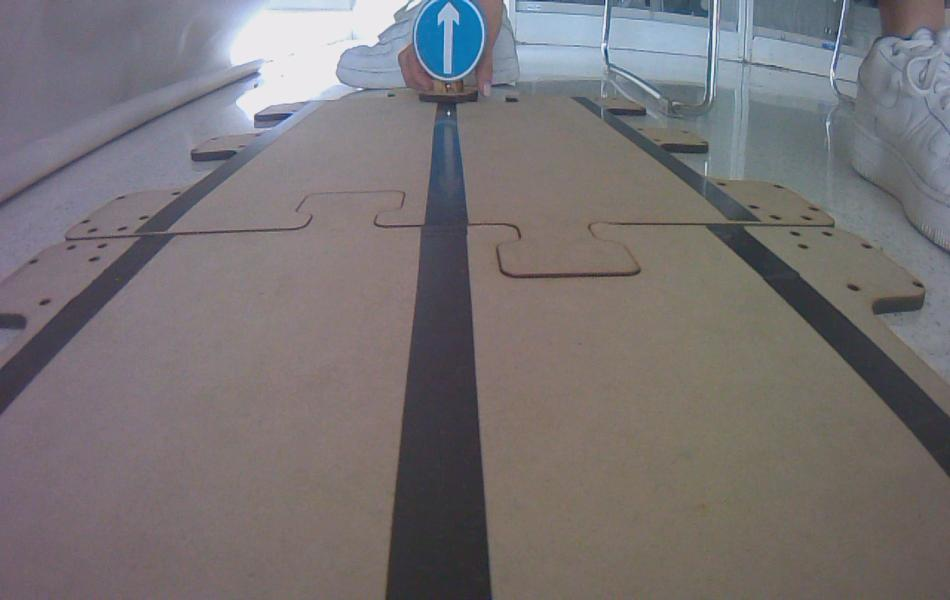straight: (412, 0, 487, 81)
